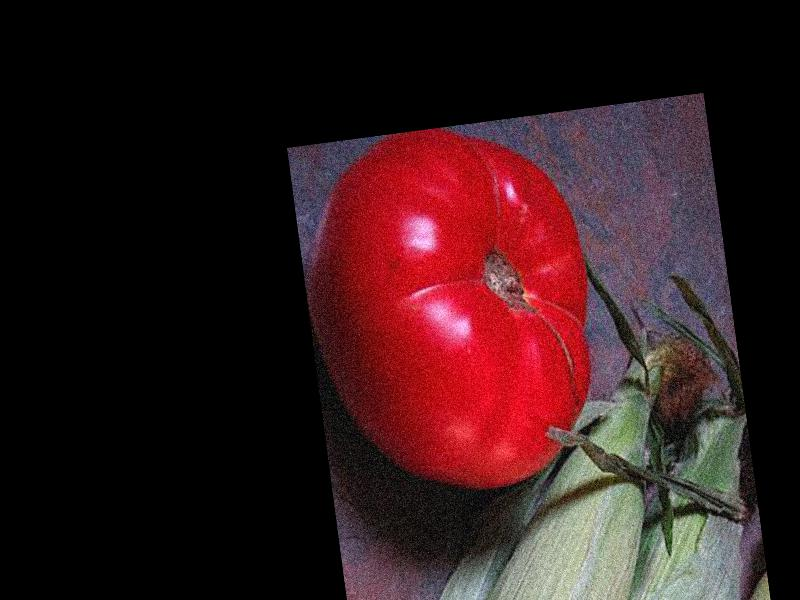Tomato: (291, 114, 612, 507)
